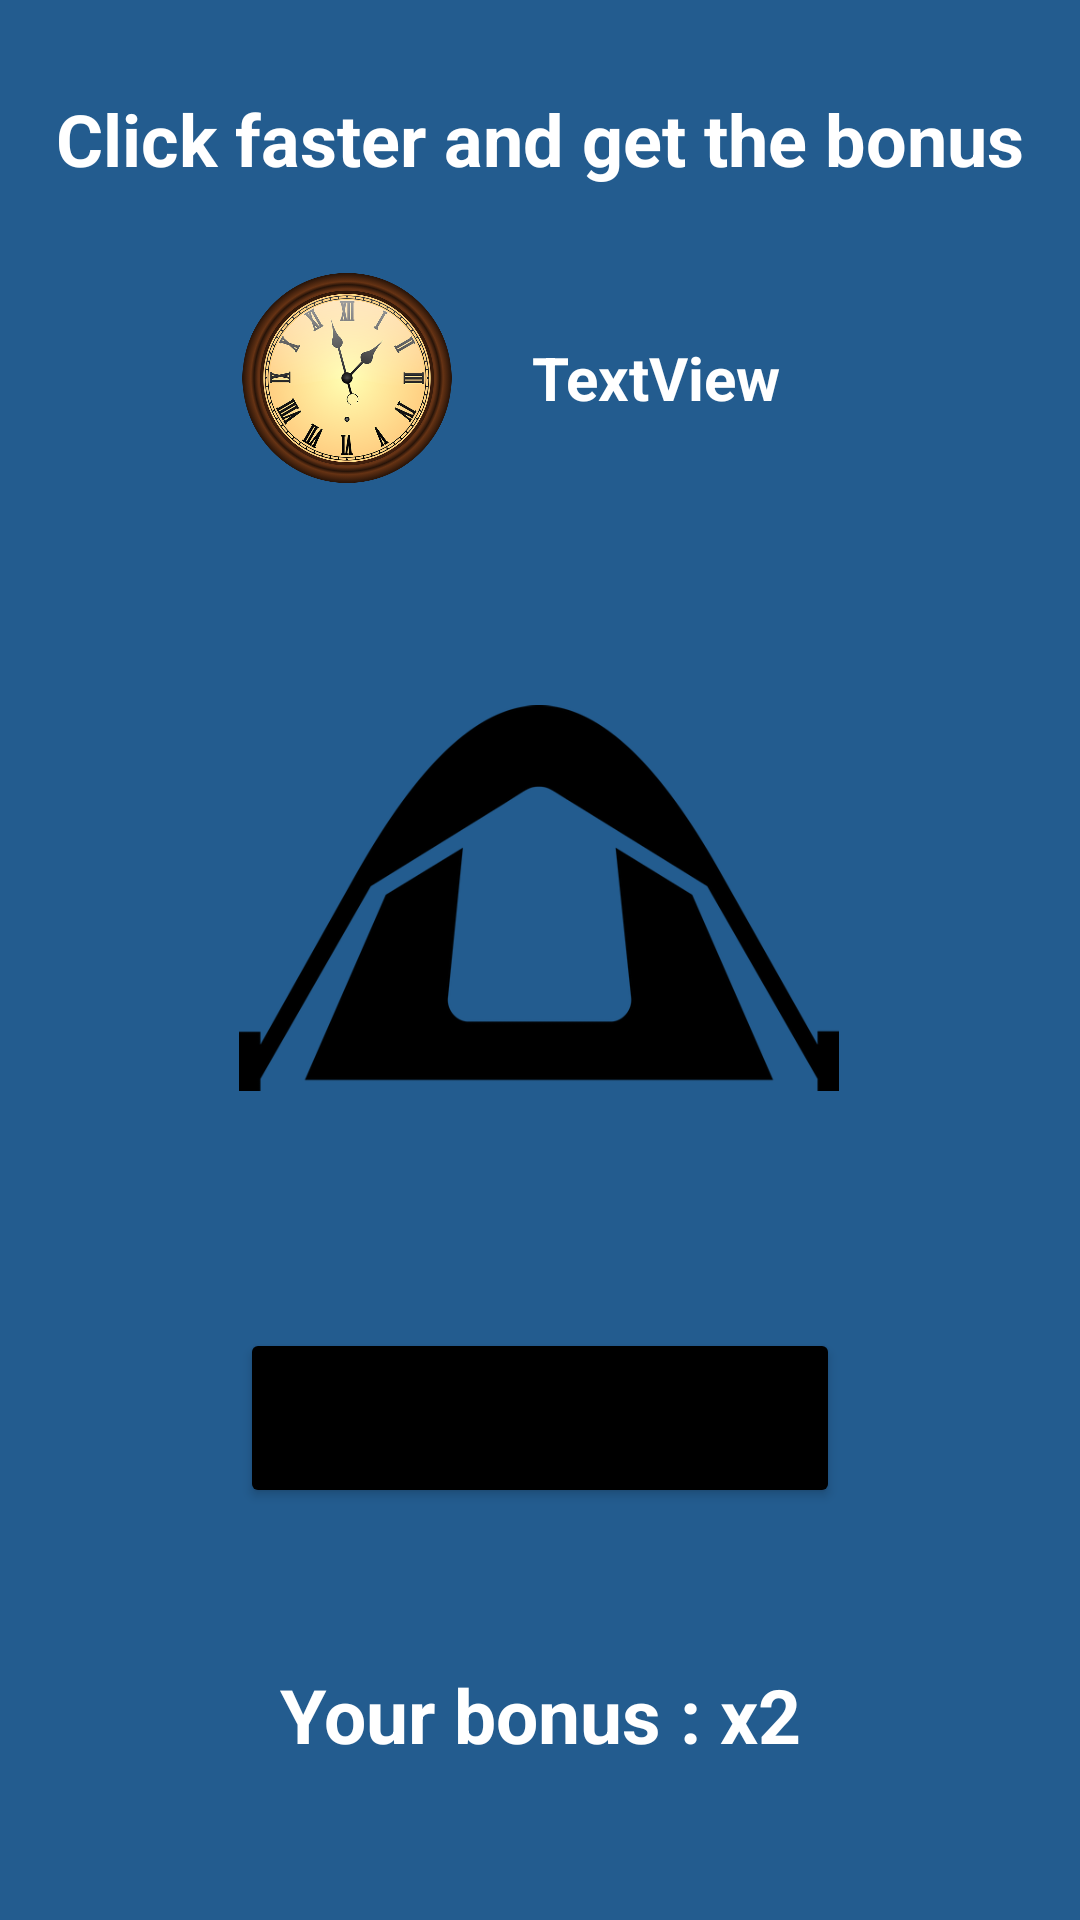

Icon click points for this 1080 × 1920 phone screenshot, format (x,y):
time: (347,378)
